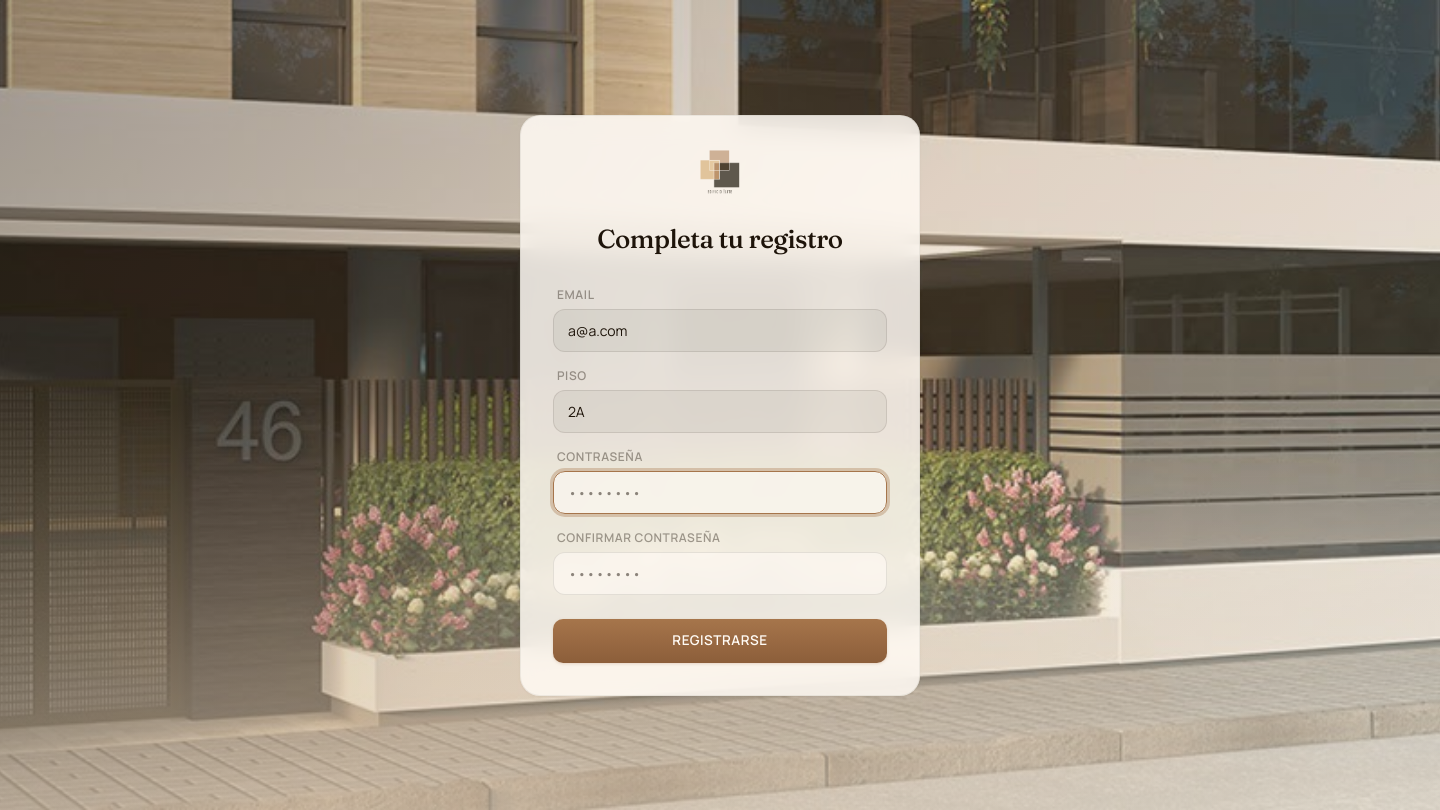
Test: RegistroPage › shows error when passwords do not match
Expected: the field showing "a@a.com" is shown, x1=553 y1=308 x2=887 y2=352
Type "password123" into the password field labelled "Contraseña".
click(720, 492); type("password123")  # box x1=553 y1=470 x2=887 y2=514
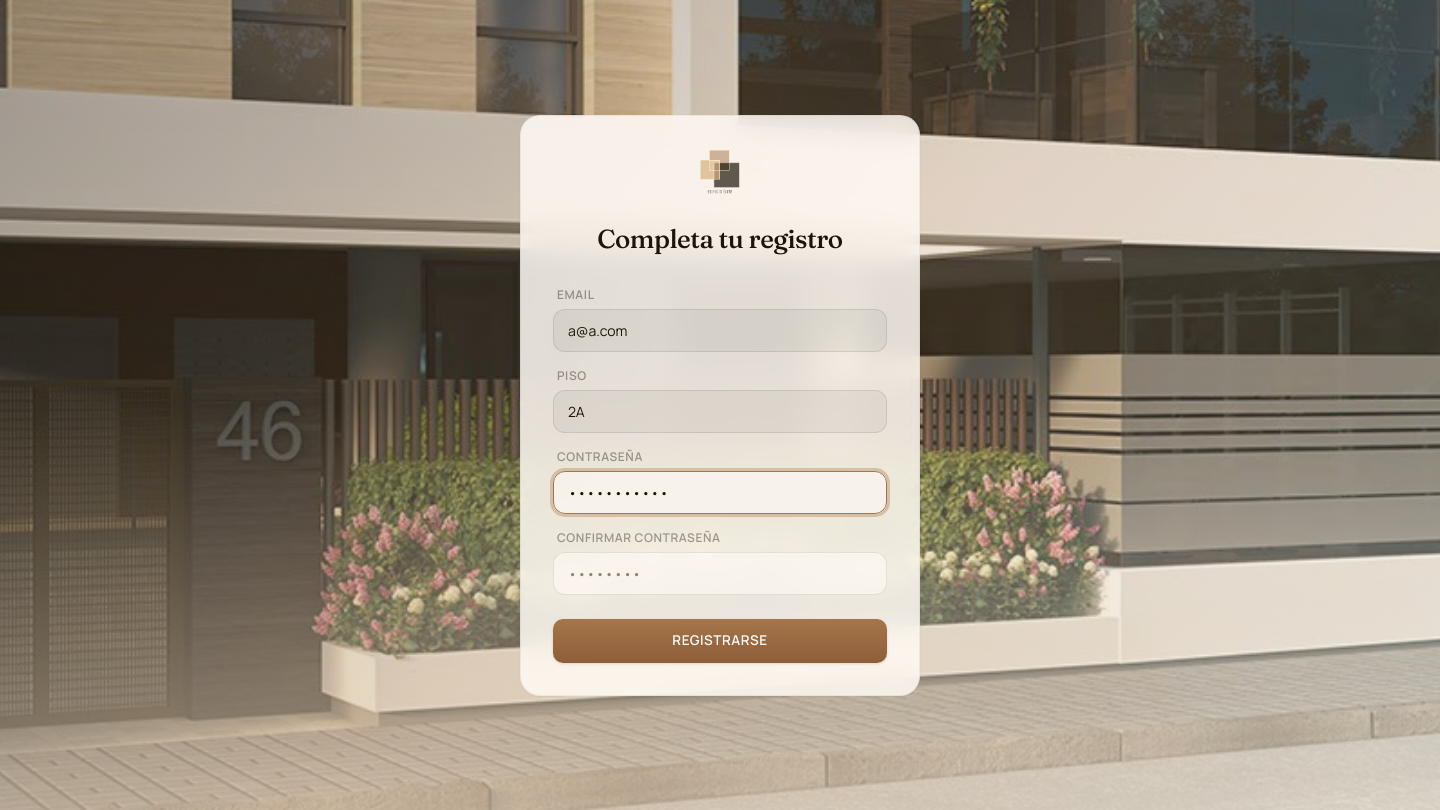
Type "different123" into the password field labelled "Confirmar contraseña".
click(720, 573); type("different123")  # box x1=553 y1=552 x2=887 y2=594
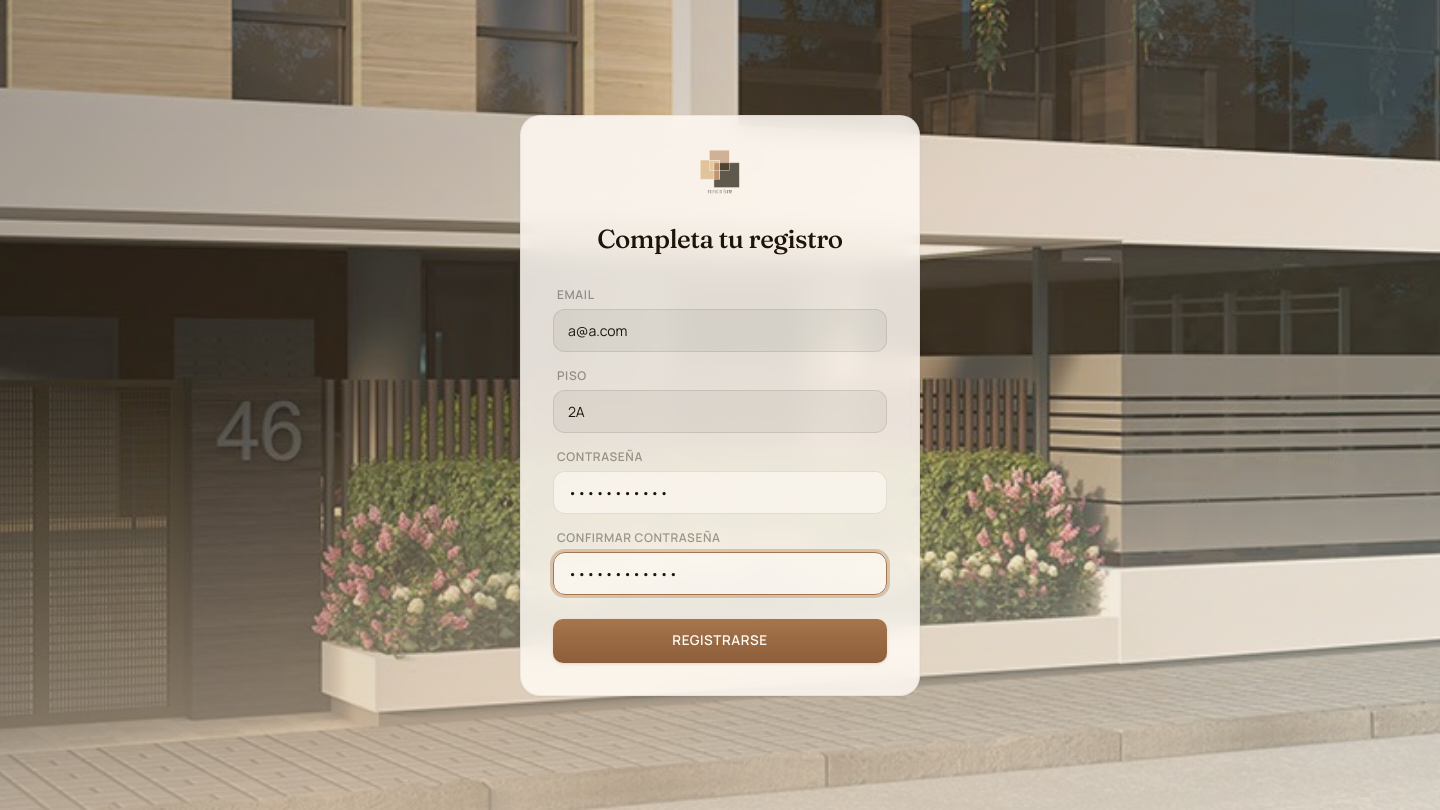
Click the button "Registrarse".
click(720, 640)  # box x1=553 y1=618 x2=887 y2=662
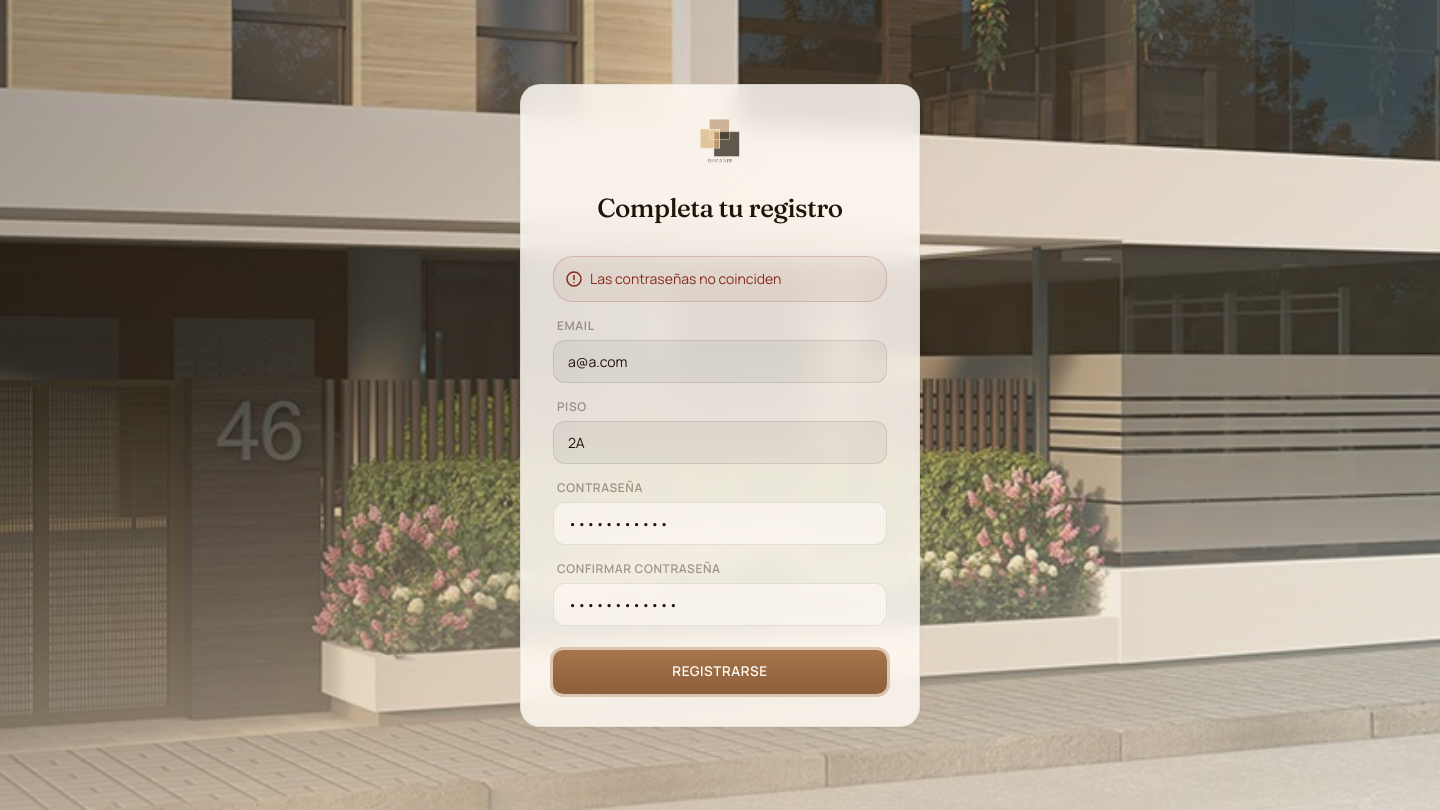
Expected: the text "Las contraseñas no coinciden" is shown, x1=553 y1=256 x2=887 y2=302
